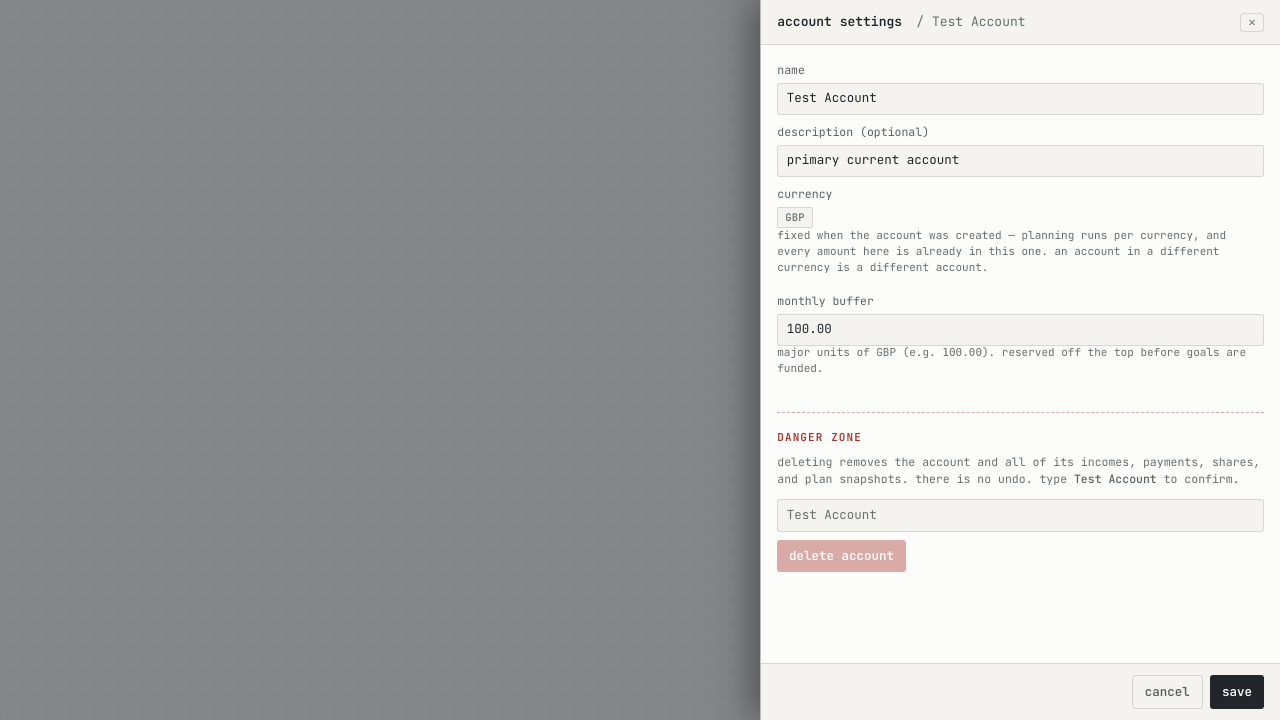
it: AccountSettingsDrawer › disables the delete button until the user types the exact account name
Expected: the button "delete account" is disabled, [777, 540, 906, 572]
Step 1. Type "wrong" into the field named "type account name to confirm" → (1021, 515), box [777, 499, 1264, 532]
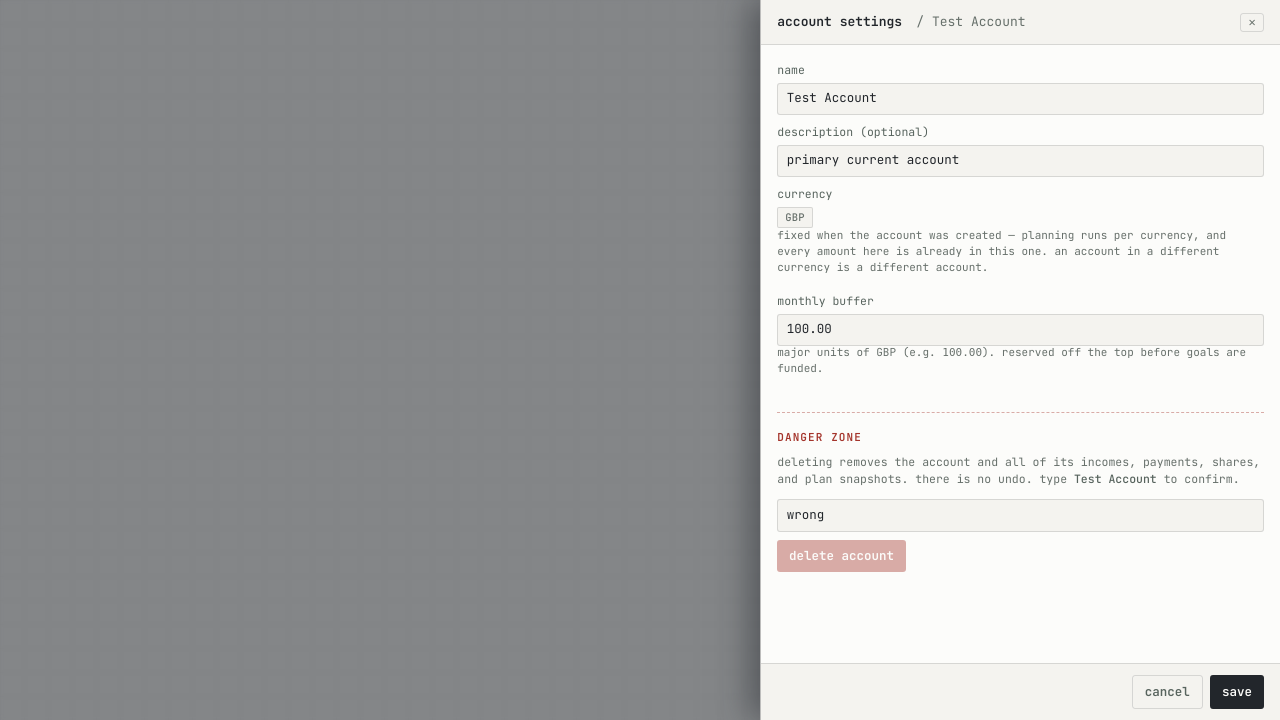
Expected: the button "delete account" is disabled, [777, 540, 906, 572]
Step 2. Replace the text in the field named "type account name to confirm" with "Test Account" → (1021, 515), box [777, 499, 1264, 532]
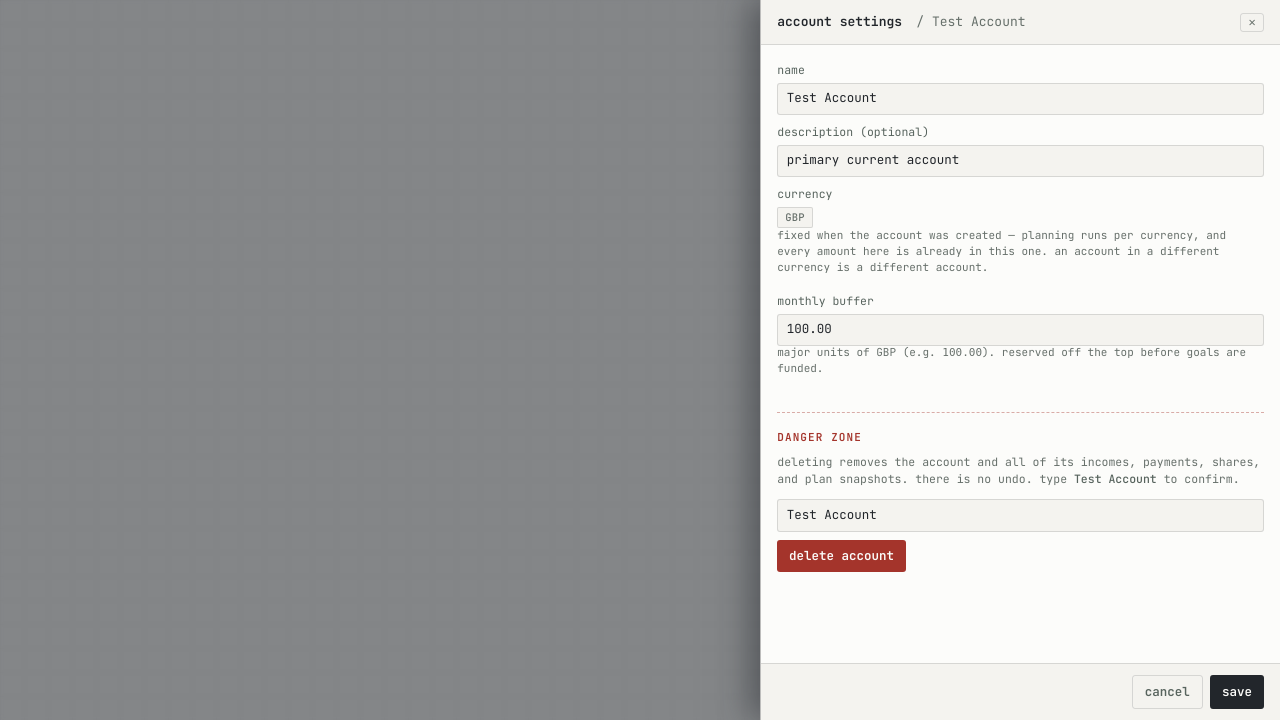
Expected: the button "delete account" is enabled, [777, 540, 906, 572]
